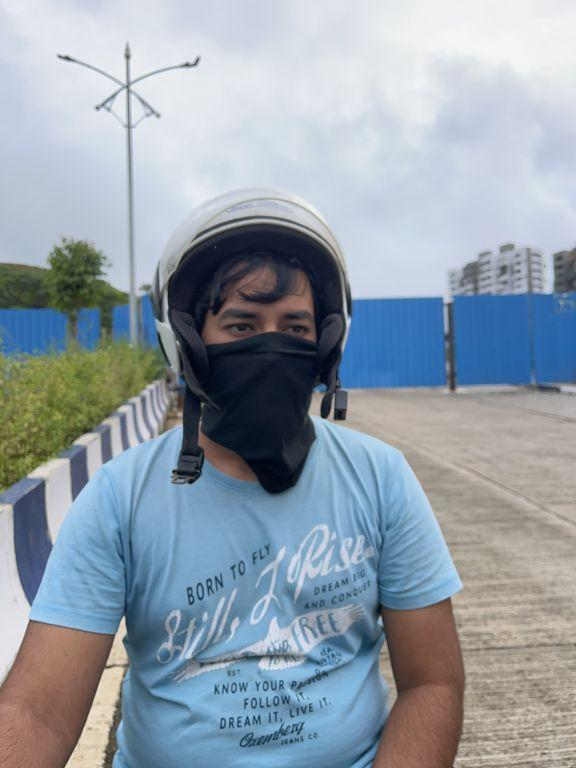helmet: (142, 180, 361, 446)
